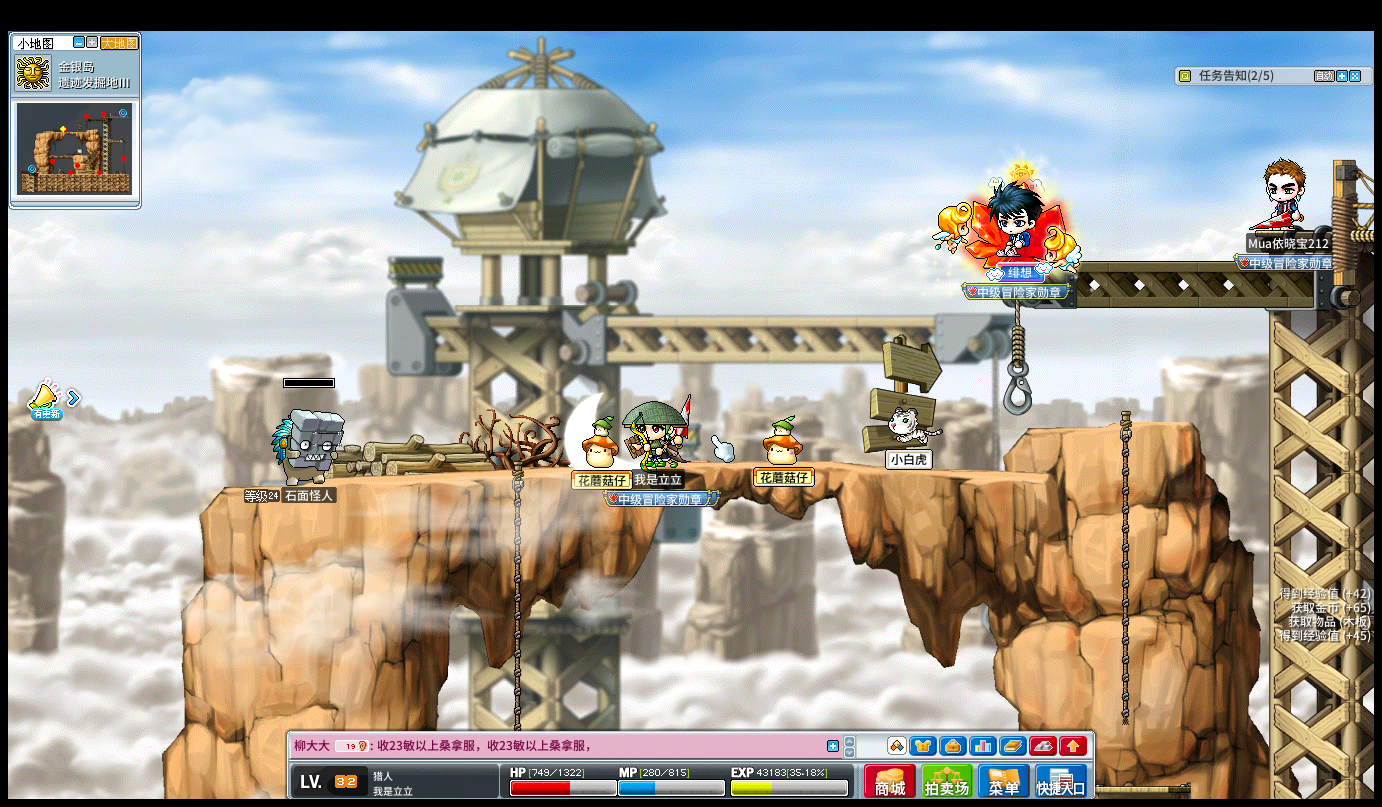floor: (223, 455, 1099, 481), (1024, 418, 1194, 433), (1024, 421, 1199, 435)
monster: (270, 408, 342, 483)
rope: (1117, 403, 1133, 727), (509, 460, 523, 683), (1117, 615, 1130, 723)
